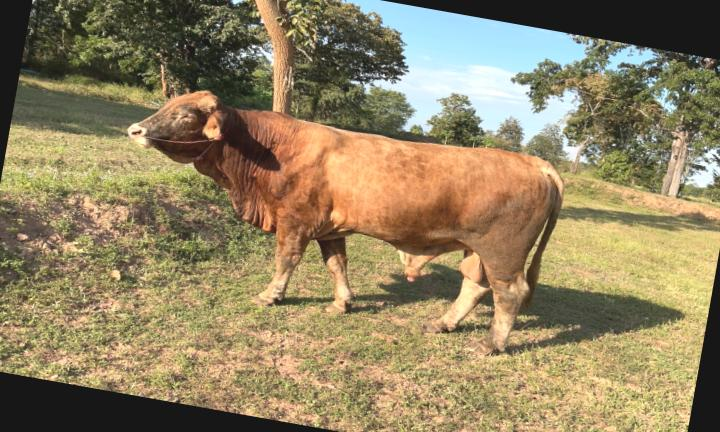Charolais: (129, 91, 564, 355)
